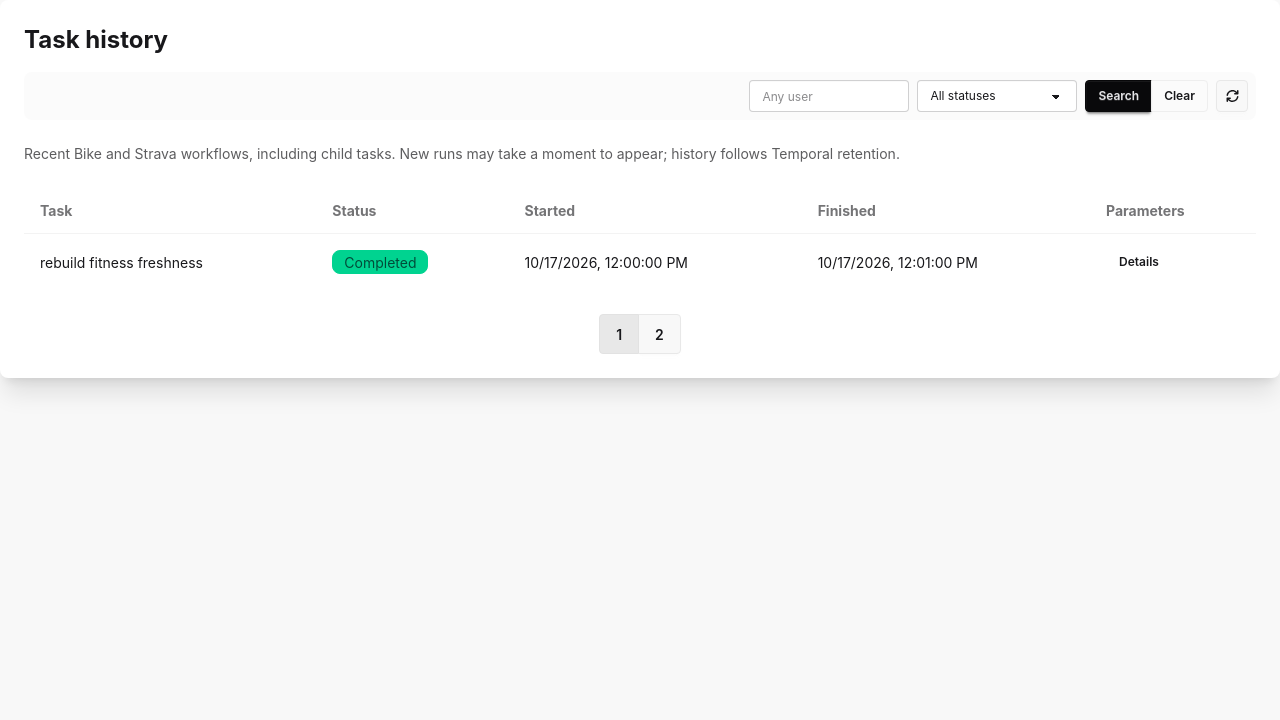
Test case: shows prior executions and loads the selected run's parameters on demand
The image size is (1280, 720).
Expected: the text "rebuild fitness freshness" is shown, [40,254,203,270]
Click the button "Details" at [1139, 262], box [1106,246,1172,278]
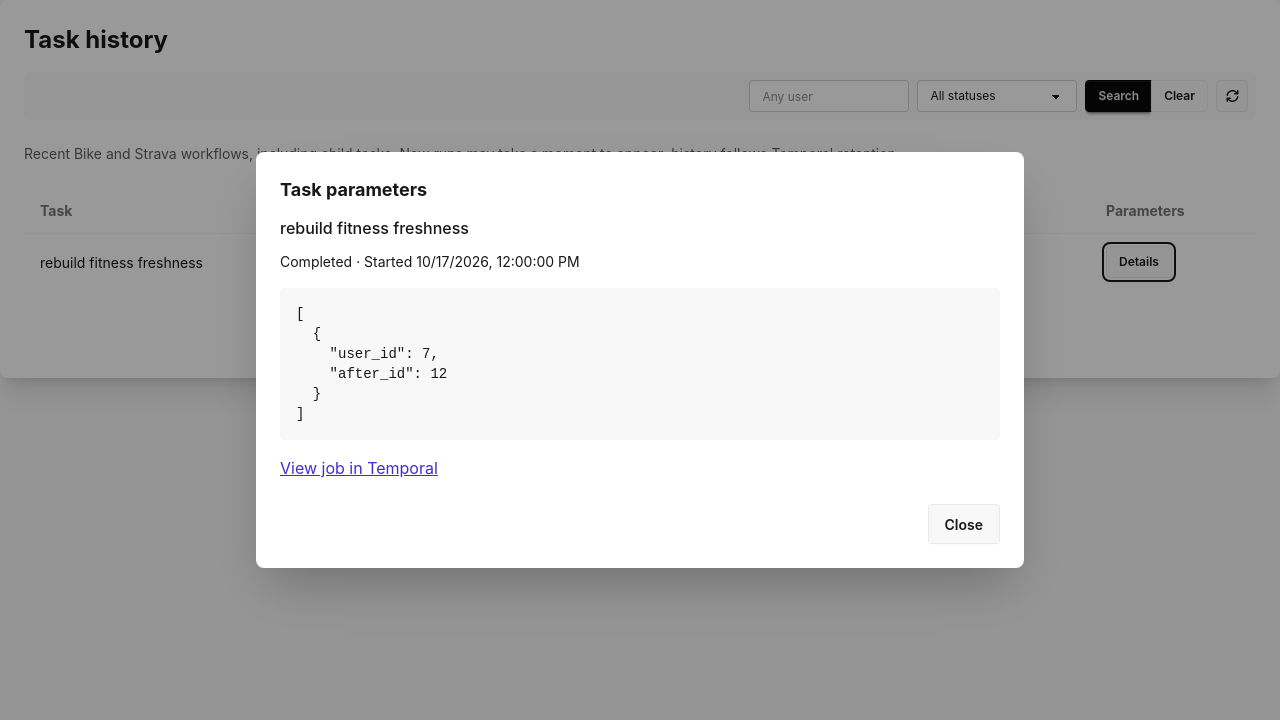
Result: the dialog shows "\"user_id\": 7" at [296,306,447,422]
Result: the dialog shows "\"after_id\": 12" at [296,306,447,422]
Click the button "Close" at [964, 524], box [928,504,1000,544]
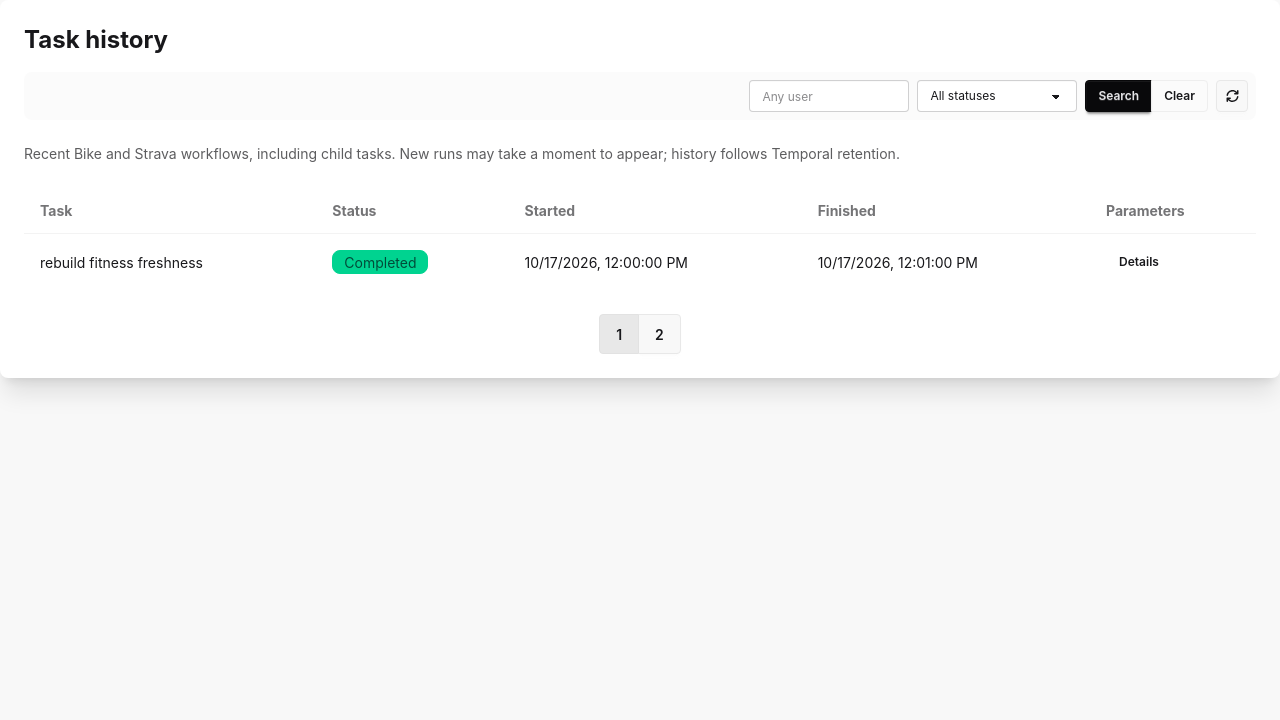
Result: the dialog is gone
